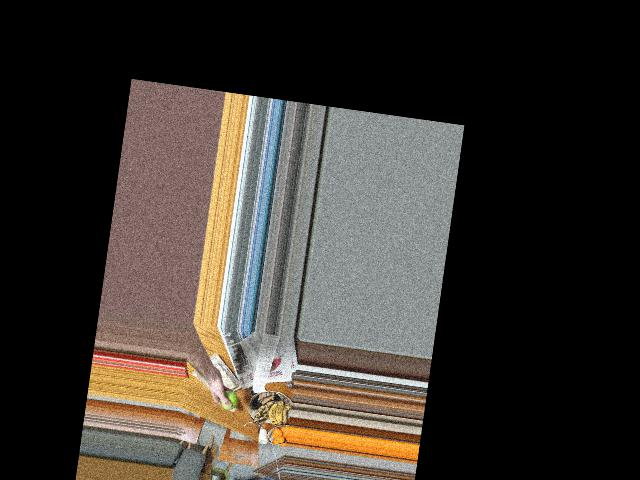apple: (218, 388, 239, 411)
